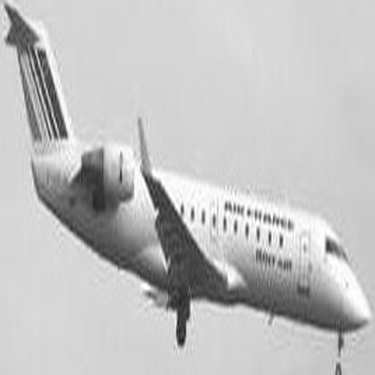airplane: (1, 5, 372, 372)
